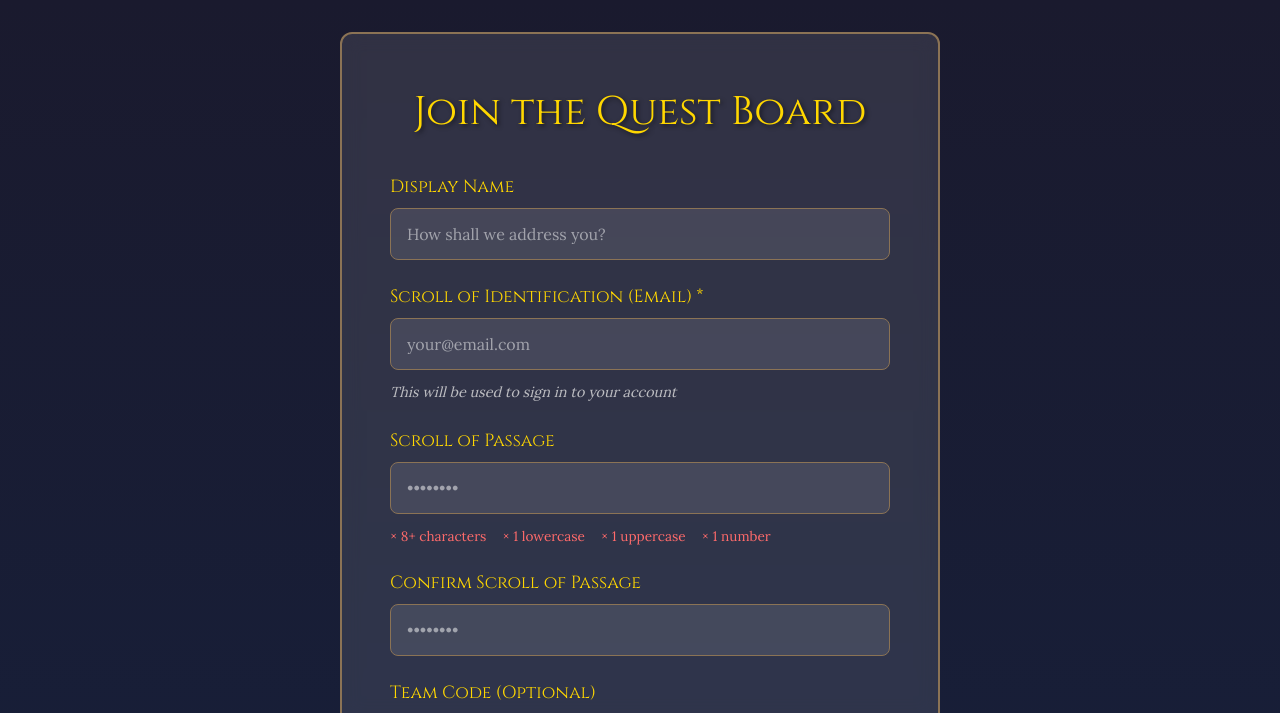
Test case: Signup Component › shows error message when passwords do not match
Type "testuser" into the field with placeholder "How shall we address you?" at (640, 234), box [390,208,890,260]
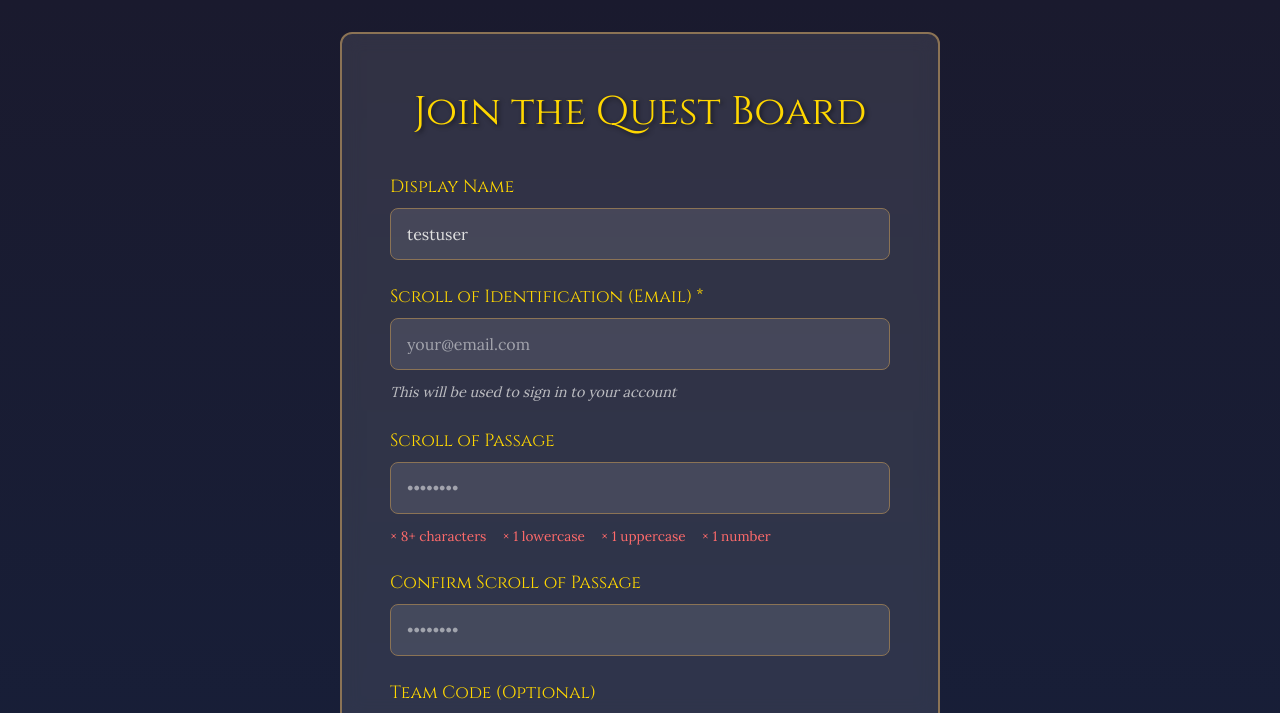
Type "test@example.com" into the field with placeholder "your@email.com" at (640, 344), box [390,318,890,370]
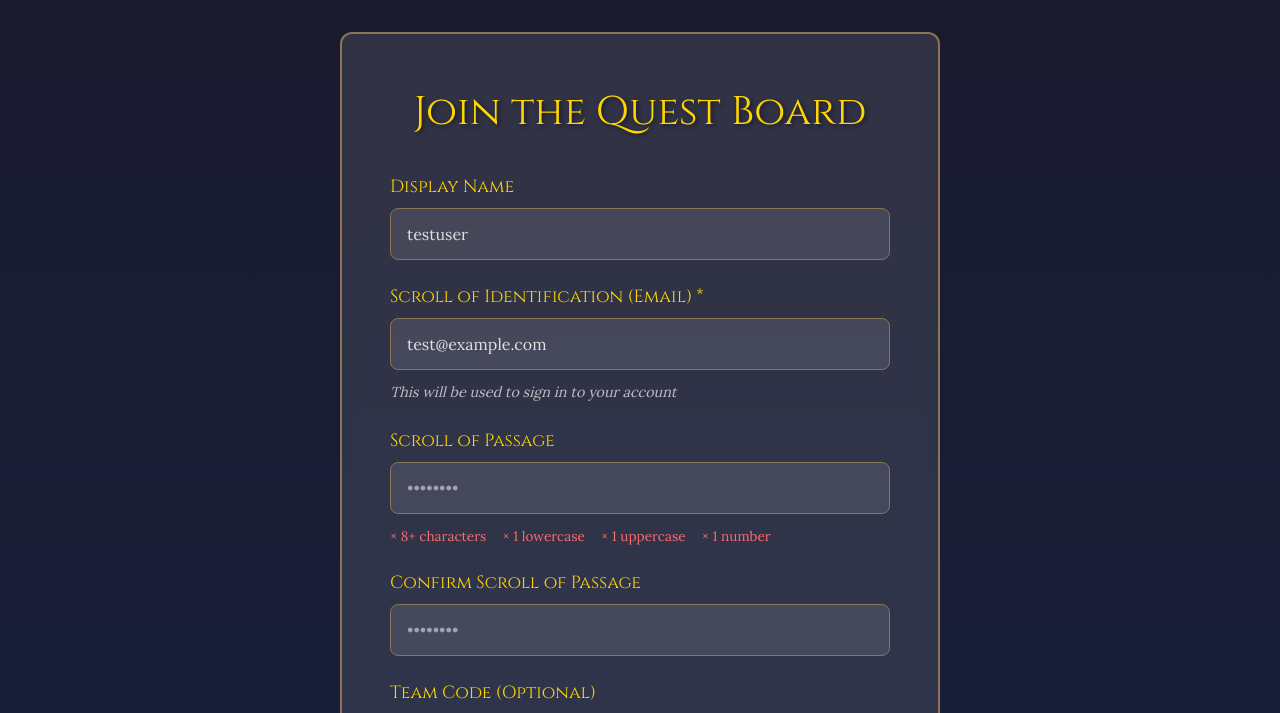
Type "Password123!" into the password field with test id "password" at (640, 488), box [390,462,890,514]
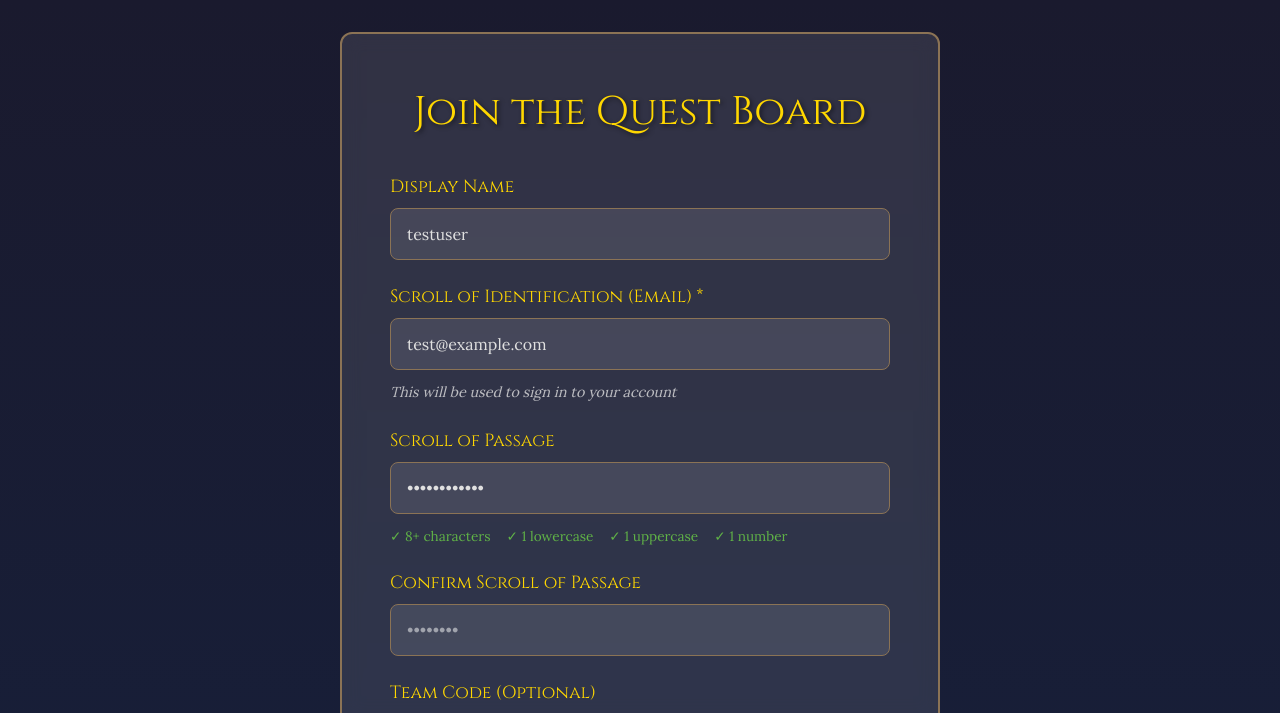
Type "Password124!" into the password field with test id "confirmPassword" at (640, 630), box [390,604,890,656]
(page scrolled)
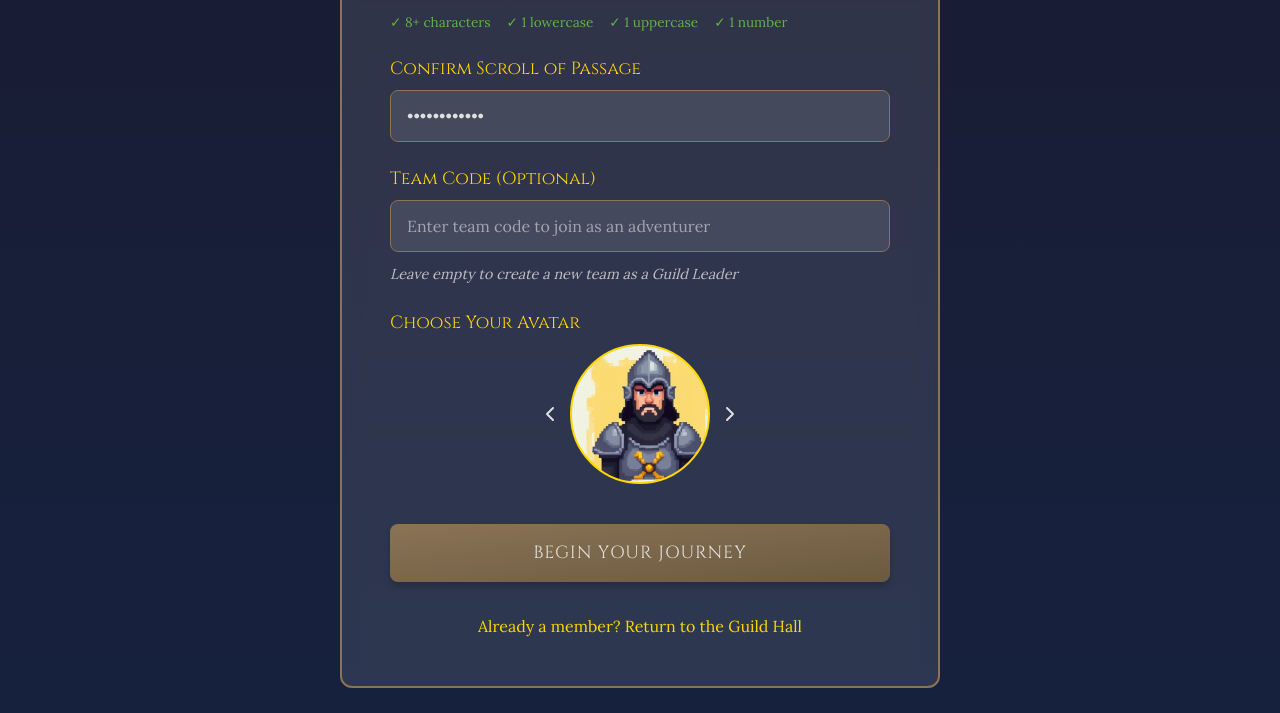
Click the button "Begin Your Journey" at (640, 553), box [390,524,890,582]
(page scrolled)
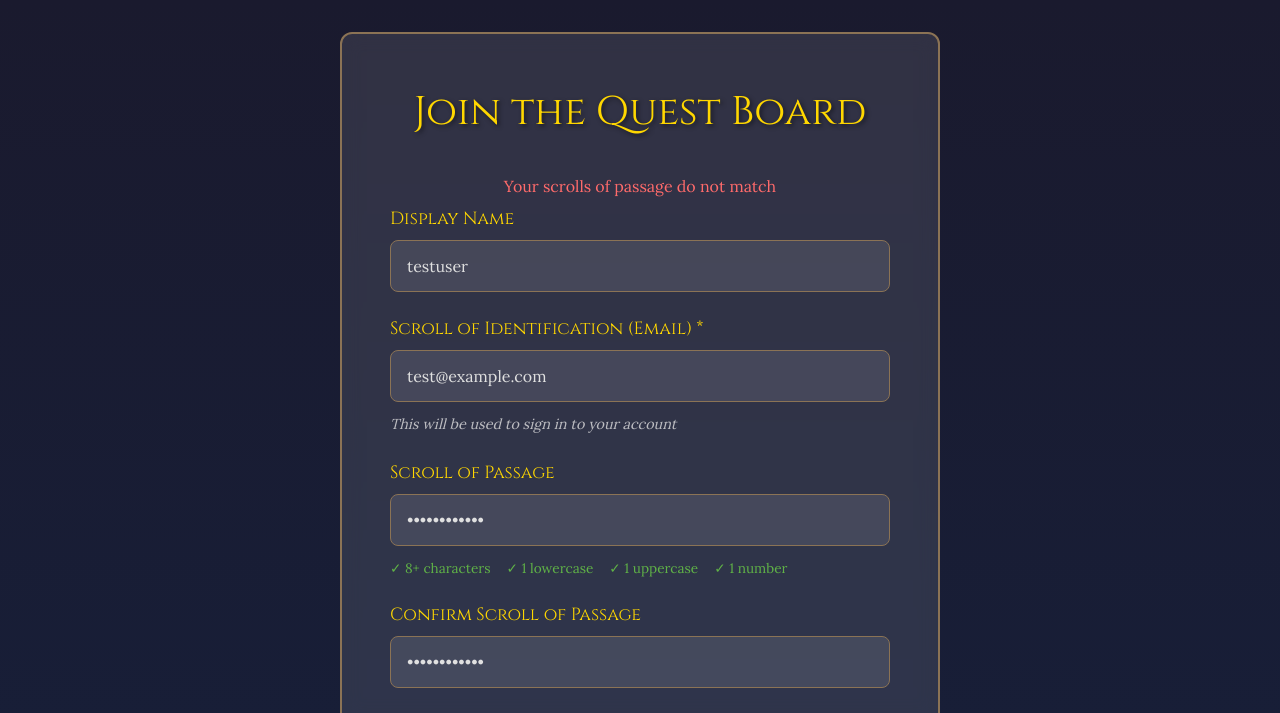
Result: the text "Your scrolls of passage do not match" is shown at [504,176,776,196]
